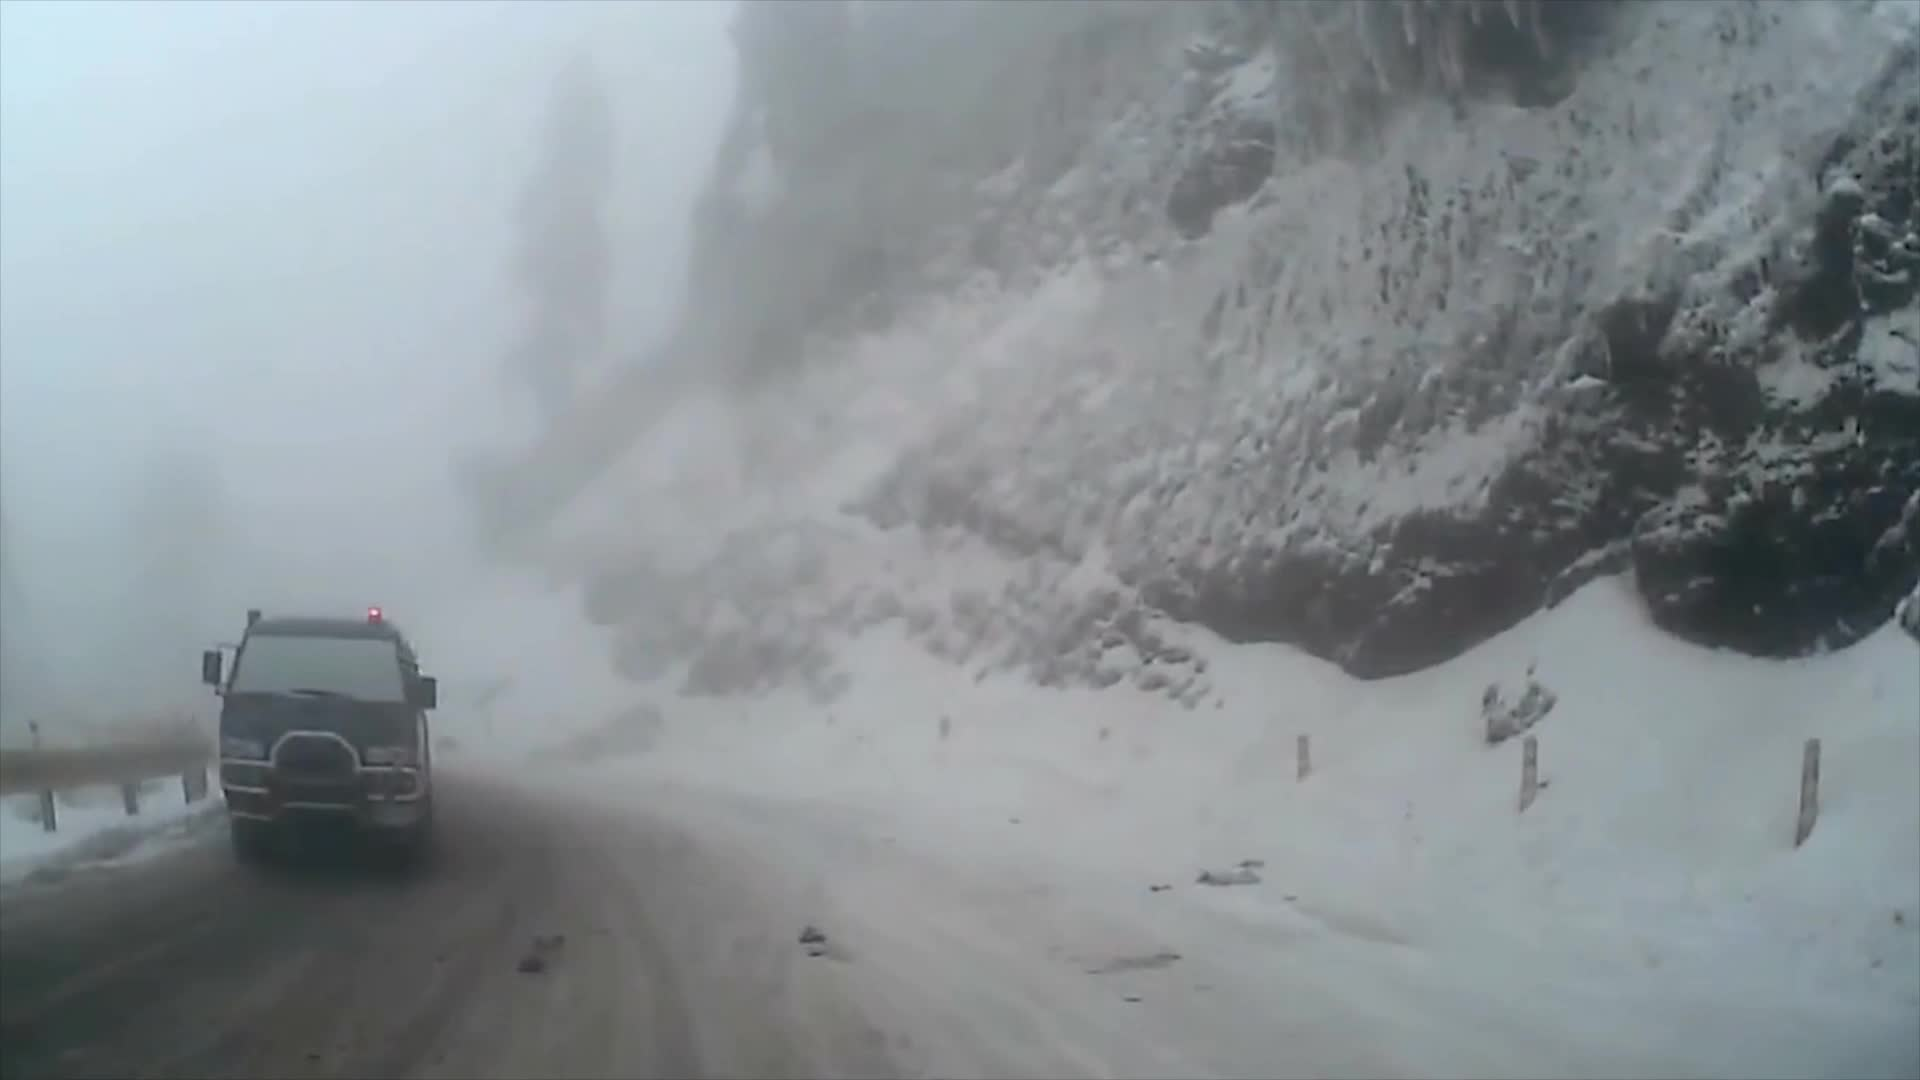vehicle: (196, 601, 436, 866)
